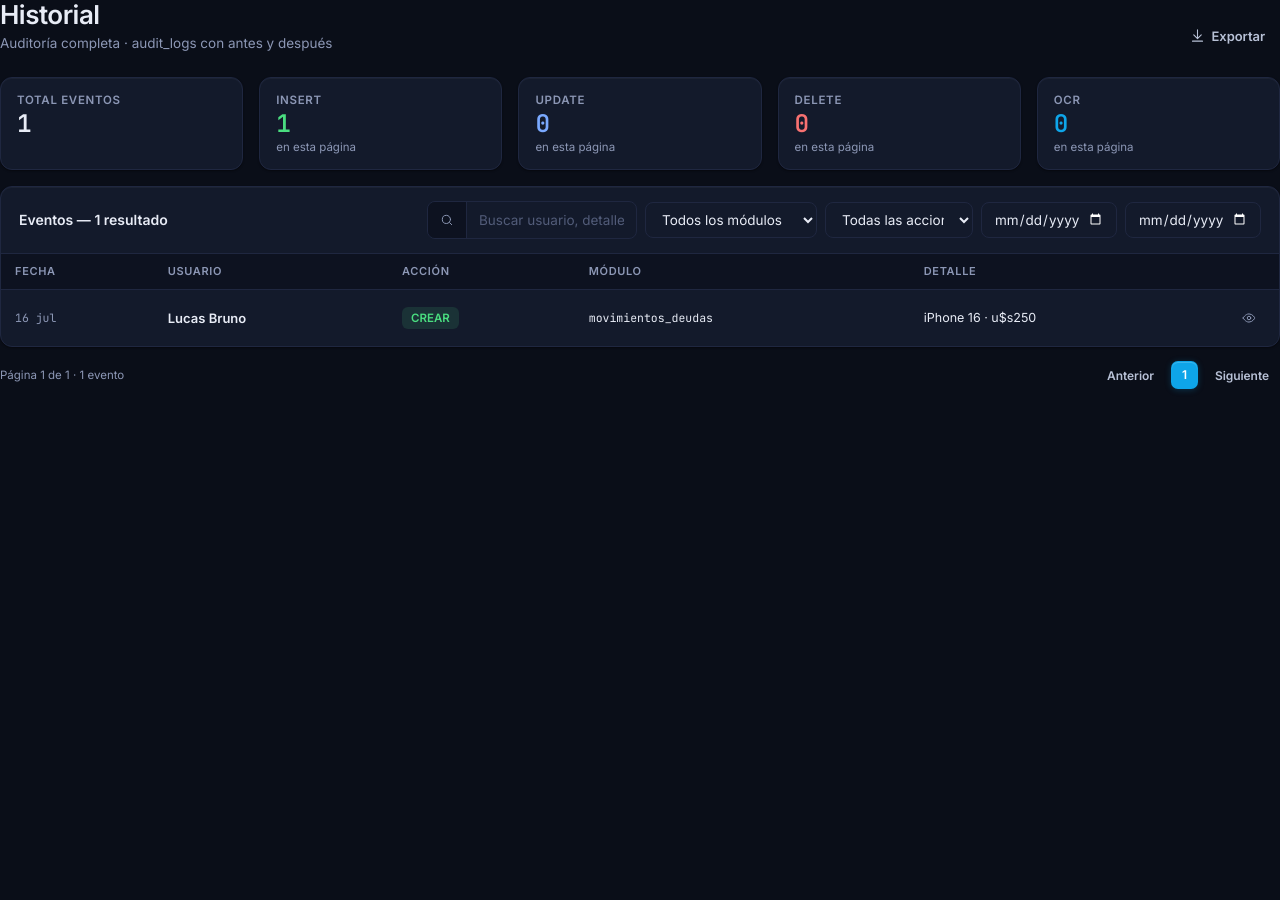
it: Historial — modal de detalle (fix P0) › abre el modal al clickear el ícono de detalle y muestra los campos formateados
Check: the text "iPhone 16 · u$s250" is shown, box [910,290,1219,346]
Click the button named "Ver detalle JSON": point(1249, 318) [1233,302,1265,334]
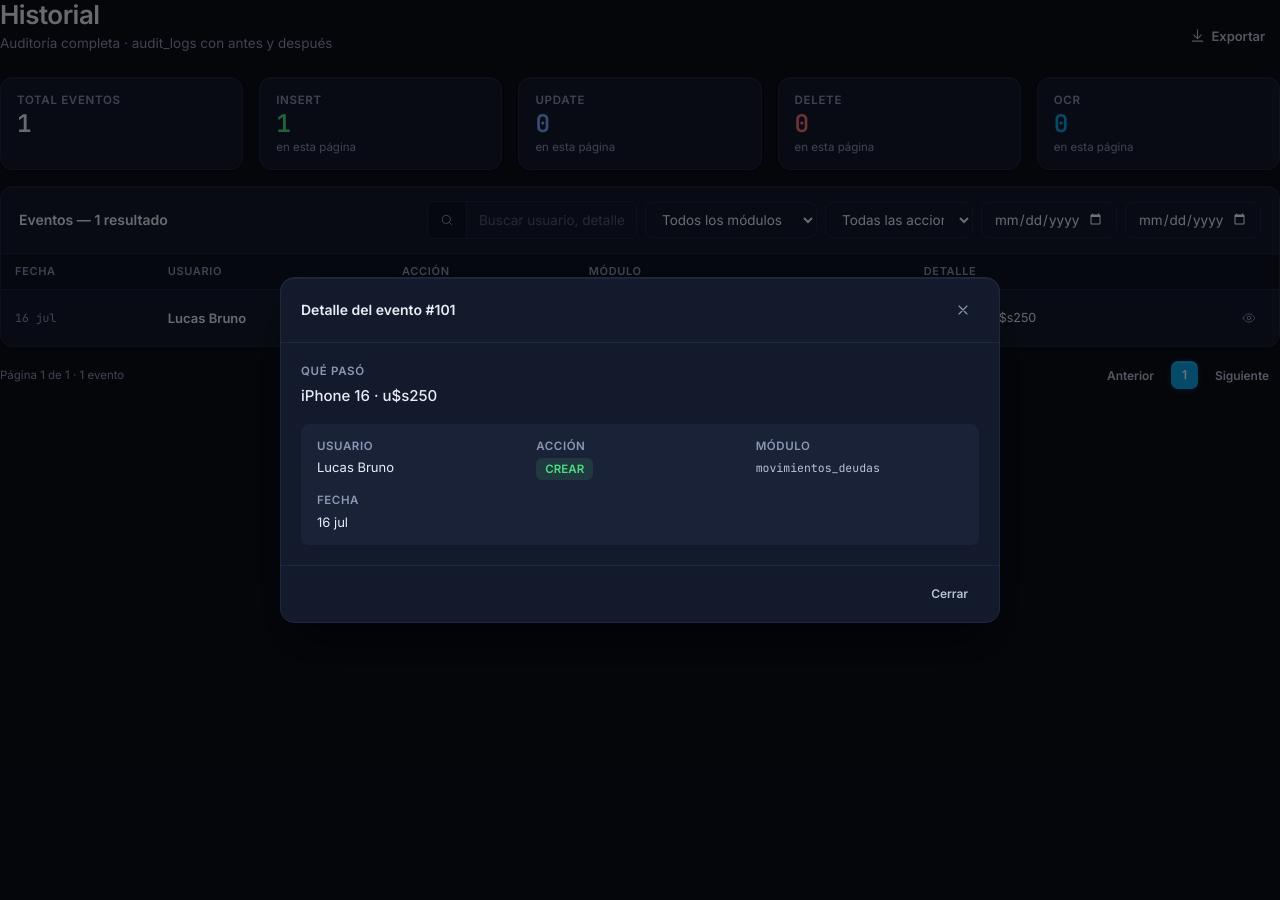
Check: the text "Detalle del evento #101" is shown, box [301,300,456,320]
Check: the text "Qué pasó" is shown, box [301,364,365,378]
Check: the text "Detalle del evento #101" shows "Usuario", box [317,439,373,453]
